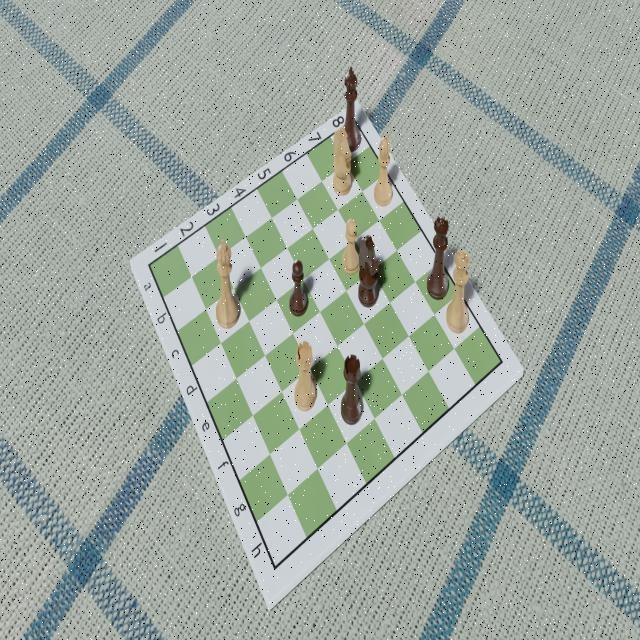black-king: (341, 62, 364, 153)
black-knight: (355, 229, 380, 310)
black-pawn: (286, 251, 312, 321)
black-queen: (426, 213, 450, 301)
black-rook: (338, 349, 366, 430)
white-bishop: (370, 135, 395, 211)
white-king: (211, 236, 245, 336)
white-knight: (331, 127, 353, 197)
white-pawn: (339, 217, 361, 275)
white-queen: (444, 241, 472, 339)
white-rook: (291, 338, 320, 414)
